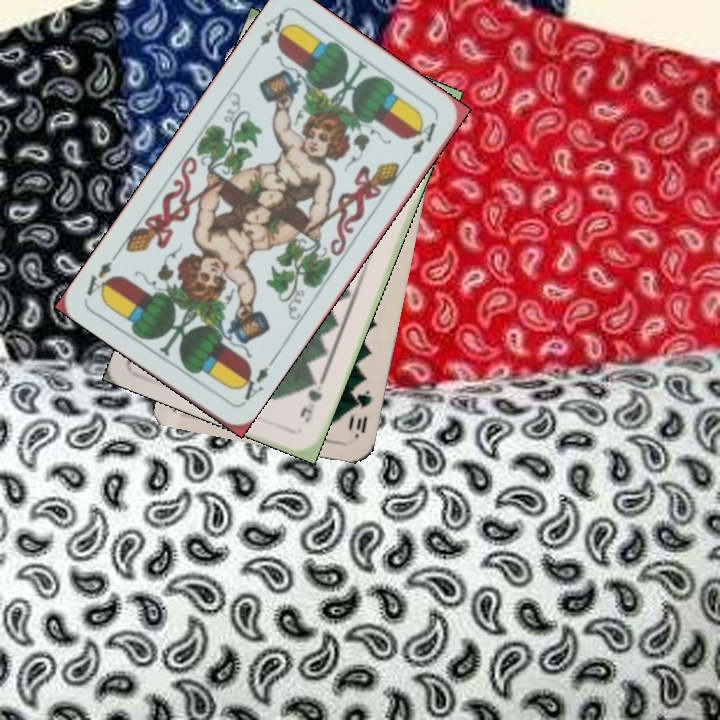EA: (233, 362, 272, 407), (255, 8, 293, 49)
G10: (348, 385, 374, 441)
G9: (296, 373, 327, 425)
